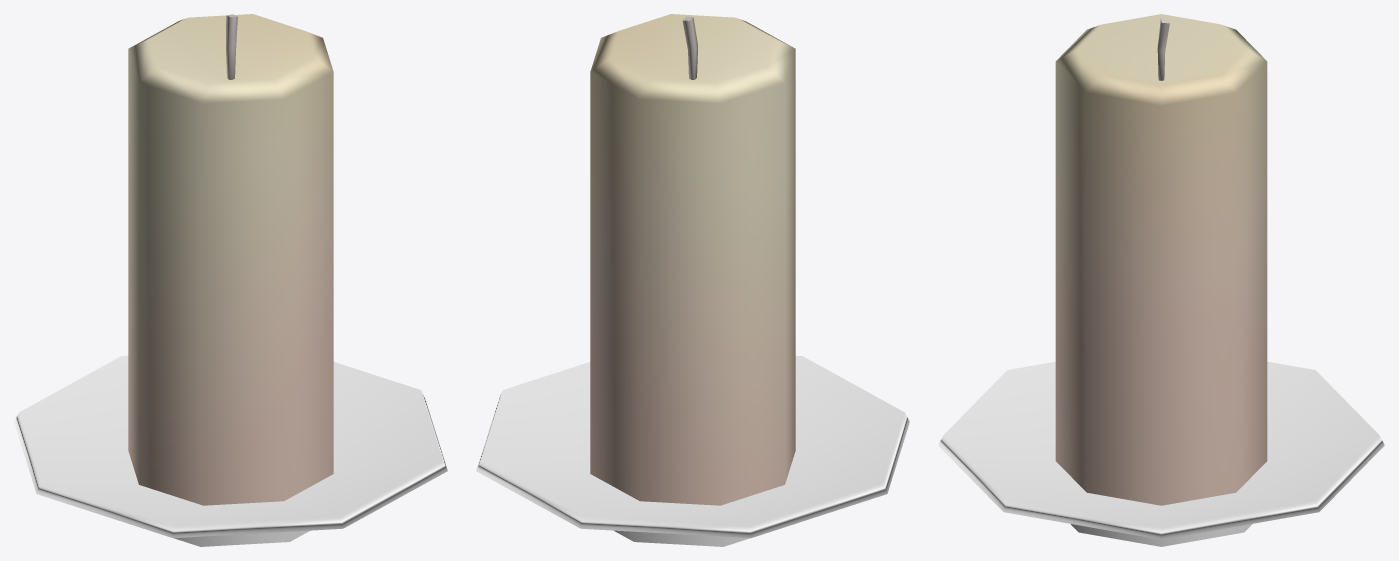
Rendered from prop_032.fbx.
3 views of the same model, side by side, from view 1: azimuth 30°, elevation 25°; view 2: azimuth 150°, elevation 25°; view 3: azimuth 270°, elevation 25° (orthographic).
Parts seen in each view (by area): view 1: prop_032; view 2: prop_032; view 3: prop_032.
Boxes of the visible parts, x1=… form: prop_032: x1=14, y1=14, x2=447, y2=546; prop_032: x1=476, y1=14, x2=909, y2=546; prop_032: x1=938, y1=14, x2=1384, y2=546.
Bounding box in the file's own units: 17.79 × 17.79 × 21.05.
